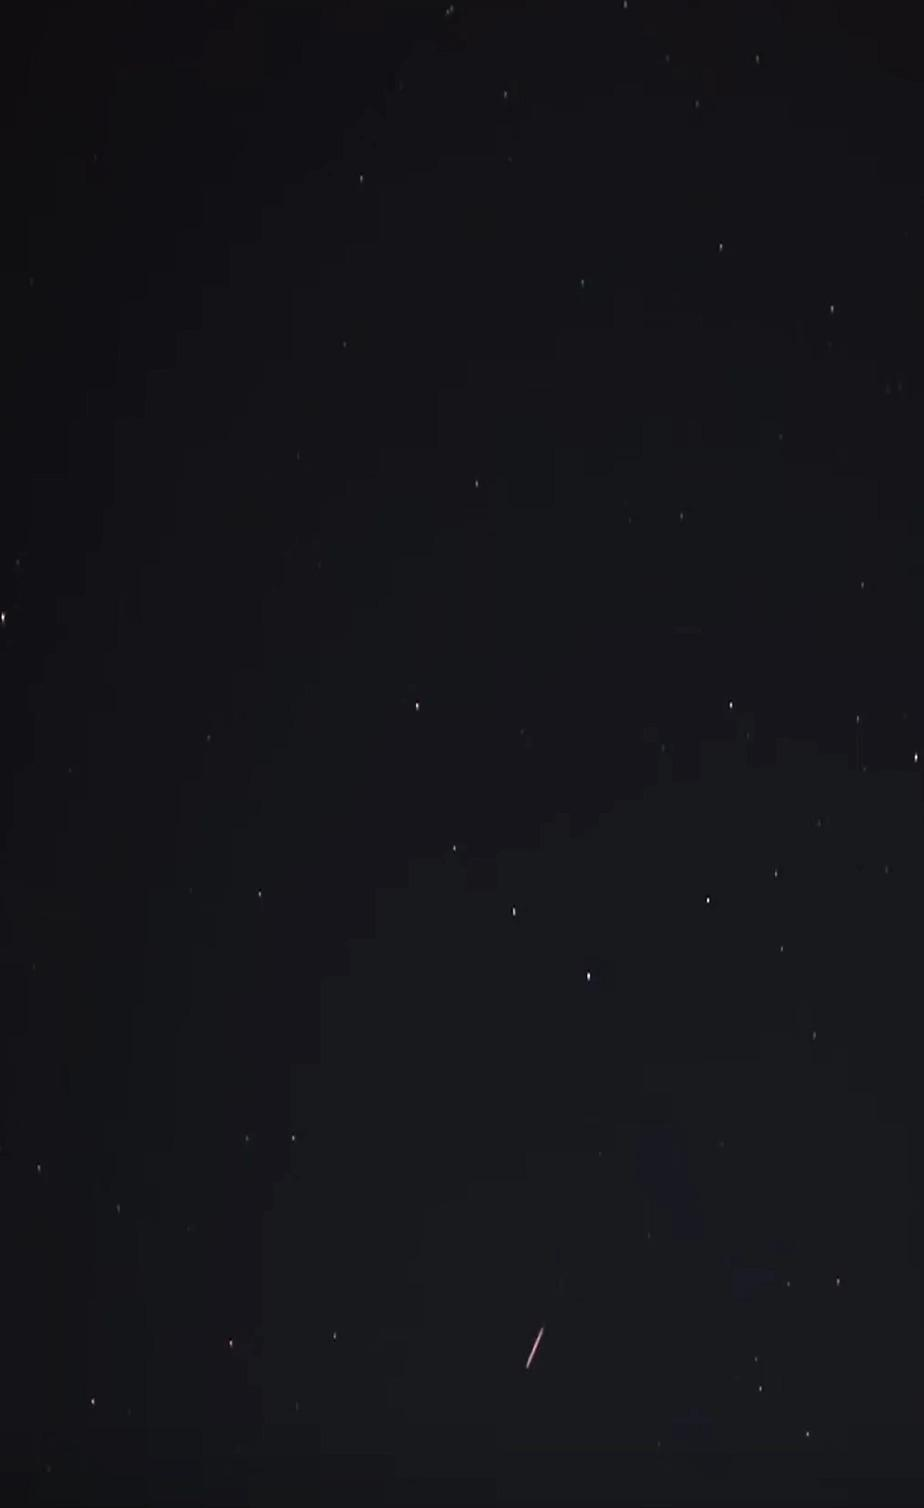meteorite: (496, 1314, 578, 1381)
